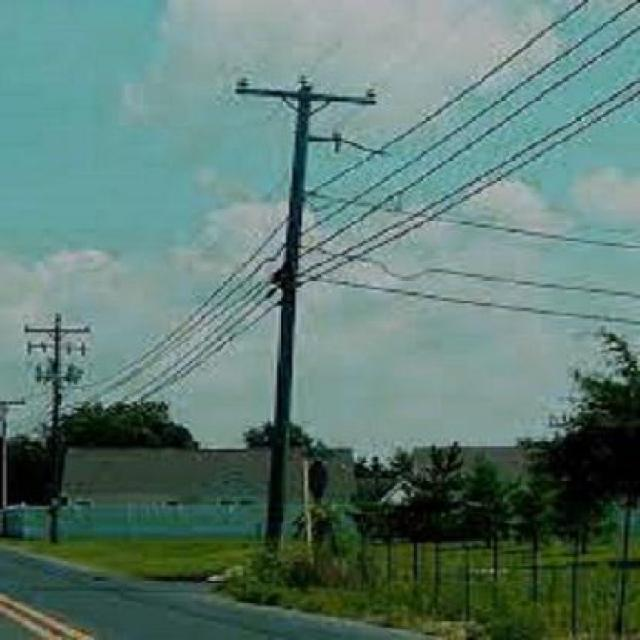pole: (242, 68, 392, 552), (22, 317, 92, 540)
